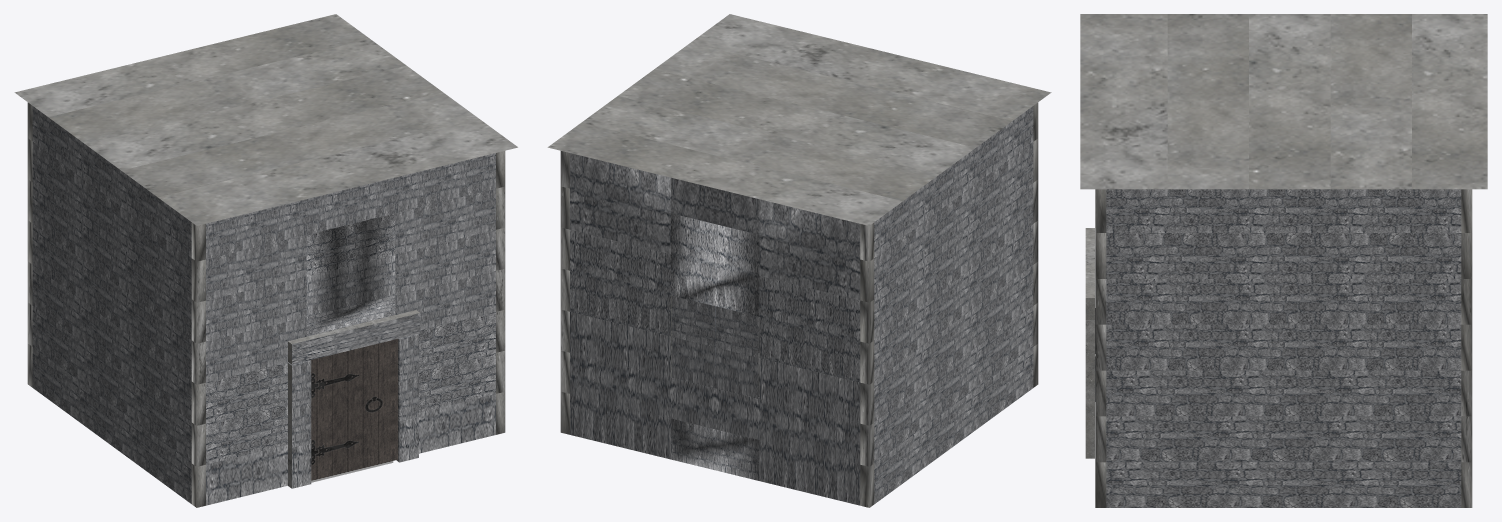
File: EXT Bunker.fbx
The picture shows the model from 3 angles, left to right: view 1: azimuth 30°, elevation 25°; view 2: azimuth 150°, elevation 25°; view 3: azimuth 270°, elevation 25°; orthographic projection. The views are drawn at different scales.
Parts seen in each view (by area): view 1: Plane.009; view 2: Plane.009; view 3: Plane.009.
Boxes of the visible parts, x1=… form: Plane.009: x1=14, y1=14, x2=517, y2=507; Plane.009: x1=547, y1=14, x2=1051, y2=507; Plane.009: x1=1080, y1=14, x2=1487, y2=507.
Bounding box in the file's own units: 1524 × 1306 × 1496.
1 material, 1 textured.
